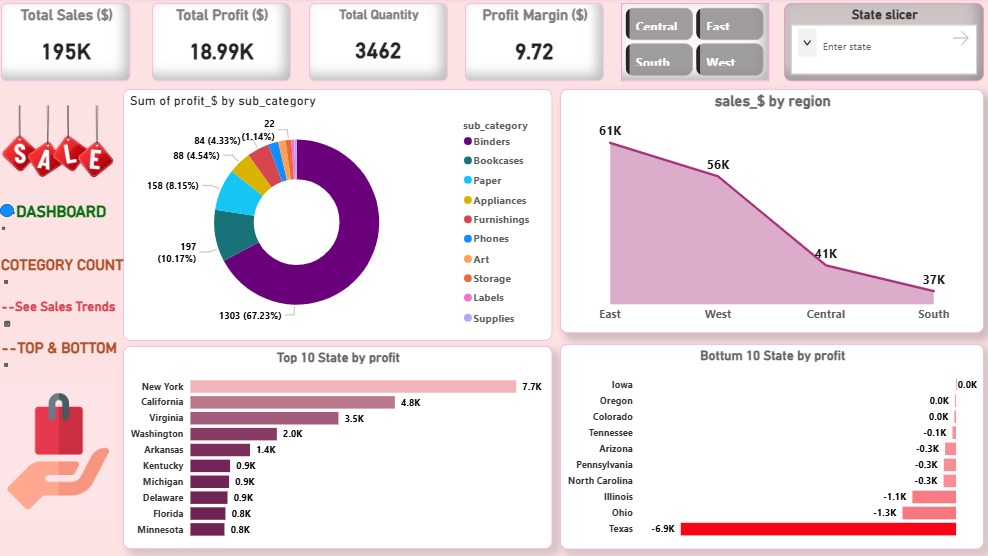

The page's visual inventory and layout, read from the dashboard file:
{"tool":"powerbi","page":{"name":"1st_impression","canvas":[1280,720],"ordinal":0},"visuals":[{"type":"card","title":"Profit Margin ($)","fields":{"Values":["Big_Market_Sales_DATA module 6.Profit Margin %"]},"box":[602.9,6,178.6,100.6],"z":0},{"type":"card","title":"Total Quantity","fields":{"Values":["Sum(Big_Market_Sales_DATA module 6.quantity)"]},"box":[401.7,6,178.6,100.6],"z":1000},{"type":"card","title":"Total Profit ($)","fields":{"Values":["Sum(Big_Market_Sales_DATA module 6.profit_$)"]},"box":[199,6,178.6,100.6],"z":2000},{"type":"card","title":"Total Sales ($)","fields":{"Values":["Sum(Big_Market_Sales_DATA module 6.sales_$)"]},"box":[3.4,6.5,167.2,100.6],"z":3000},{"type":"advancedSlicerVisual","fields":{"Values":["Big_Market_Sales_DATA module 6.region"]},"box":[804.1,6.5,191.3,100.6],"z":4000},{"type":"textSlicer","title":"State slicer ","fields":{"Values":["Big_Market_Sales_DATA module 6.state"]},"box":[1013.9,6.5,258,100.6],"z":5000},{"type":"areaChart","title":" sales_$ by region","fields":{"Category":["Big_Market_Sales_DATA module 6.region"],"Y":["Sum(Big_Market_Sales_DATA module 6.sales_$)"]},"box":[725.2,117.4,547.1,314.8],"z":6000},{"type":"clusteredBarChart","title":"Top 10 State by profit","fields":{"Category":["Big_Market_Sales_DATA module 6.state"],"Y":["Sum(Big_Market_Sales_DATA module 6.profit_$)"]},"box":[161.1,449,554.2,262.2],"z":7000},{"type":"donutChart","fields":{"Category":["Big_Market_Sales_DATA module 6.sub_category"],"Y":["Sum(Big_Market_Sales_DATA module 6.profit_$)"]},"box":[161.6,117.6,554.2,324.6],"z":8000},{"type":"clusteredBarChart","title":"Bottum 10 State by profit","fields":{"Category":["Big_Market_Sales_DATA module 6.state"],"Y":["Sum(Big_Market_Sales_DATA module 6.profit_$)"]},"box":[725.2,446.5,547.1,264.5],"z":9000},{"type":"actionButton","title":"--See Sales Trends","box":[3.9,388.4,161.4,40],"z":10000},{"type":"actionButton","title":"--TOP & BOTTOM","box":[3.9,439.8,161.4,40],"z":11000},{"type":"image","box":[1.3,117.4,156.1,145.8],"z":12000},{"type":"image","box":[2.9,498.6,150,174.3],"z":13000},{"type":"actionButton","title":"COTEGORY COUNT","box":[3.9,332.7,178.6,40],"z":14000},{"type":"actionButton","title":"--DASHBOARD","box":[1.3,263.2,161.3,40],"z":15000},{"type":"shape","box":[2.6,265.8,18.1,16.8],"z":16000}]}

Visuals, with their boxes in screenshot pixels (x1, y1, x2, y2), scaled from the page's 1280x720 canvas onto the 988x556 screenshot:
"Profit Margin ($)" card: (left=465, top=5, right=603, bottom=82)
"Total Quantity" card: (left=310, top=5, right=448, bottom=82)
"Total Profit ($)" card: (left=154, top=5, right=291, bottom=82)
"Total Sales ($)" card: (left=3, top=5, right=132, bottom=83)
advancedSlicerVisual - Big_Market_Sales_DATA module 6.region: (left=621, top=5, right=768, bottom=83)
"State slicer " textSlicer: (left=783, top=5, right=982, bottom=83)
" sales_$ by region" areaChart: (left=560, top=91, right=982, bottom=334)
"Top 10 State by profit" clusteredBarChart: (left=124, top=347, right=552, bottom=549)
donutChart - Big_Market_Sales_DATA module 6.sub_category x Sum(Big_Market_Sales_DATA module 6.profit_$): (left=125, top=91, right=553, bottom=341)
"Bottum 10 State by profit" clusteredBarChart: (left=560, top=345, right=982, bottom=549)
"--See Sales Trends" actionButton: (left=3, top=300, right=128, bottom=331)
"--TOP & BOTTOM" actionButton: (left=3, top=340, right=128, bottom=371)
image: (left=1, top=91, right=121, bottom=203)
image: (left=2, top=385, right=118, bottom=520)
"COTEGORY COUNT" actionButton: (left=3, top=257, right=141, bottom=288)
"--DASHBOARD" actionButton: (left=1, top=203, right=126, bottom=234)
shape: (left=2, top=205, right=16, bottom=218)
